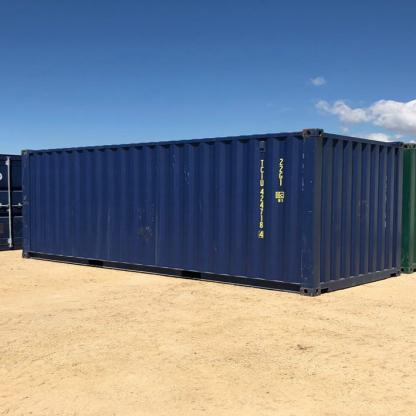Damage: (14, 186, 44, 253), (287, 232, 320, 287), (163, 151, 201, 185), (295, 141, 315, 191), (139, 203, 161, 246), (378, 173, 395, 228), (200, 232, 224, 254), (346, 194, 369, 214)
